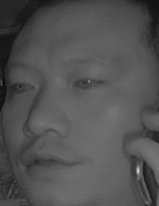eye: (73, 71, 105, 95), (8, 76, 37, 98)
mouth: (21, 142, 80, 181)
